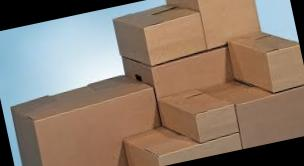Kertas: (12, 76, 160, 165), (204, 82, 303, 148), (123, 47, 232, 98), (114, 5, 205, 65), (166, 0, 260, 48), (229, 33, 303, 92), (124, 128, 241, 165), (158, 90, 238, 142), (154, 68, 225, 98)
